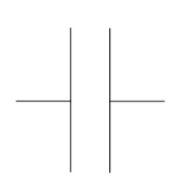Capacitor: (36, 22, 136, 180)
